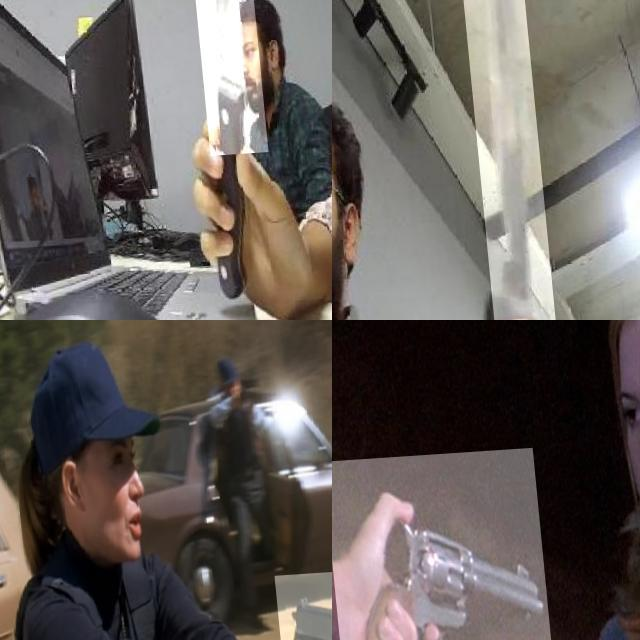-: (448, 0, 549, 320), (173, 0, 260, 190)
gun-knife-thesis - v11 Yolov5 augmented: (332, 451, 546, 640)
